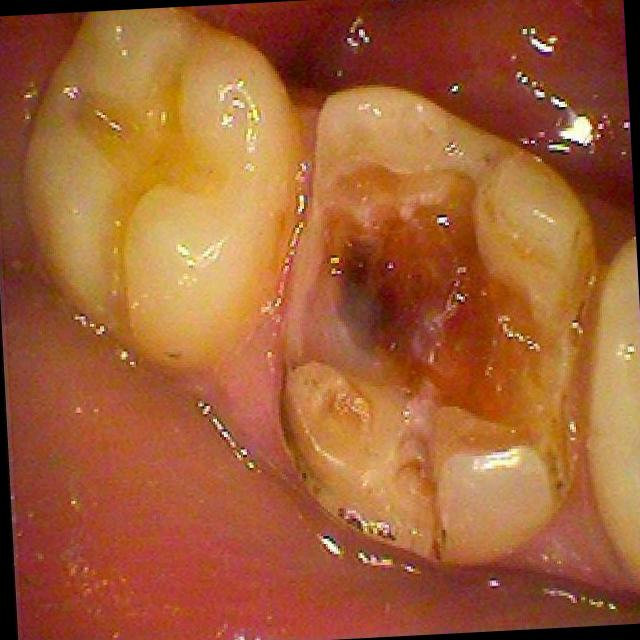Caries: (338, 240, 398, 352)
Cavity: (299, 162, 562, 430), (59, 53, 230, 338)
Tooth: (284, 85, 596, 566), (21, 9, 299, 376)
